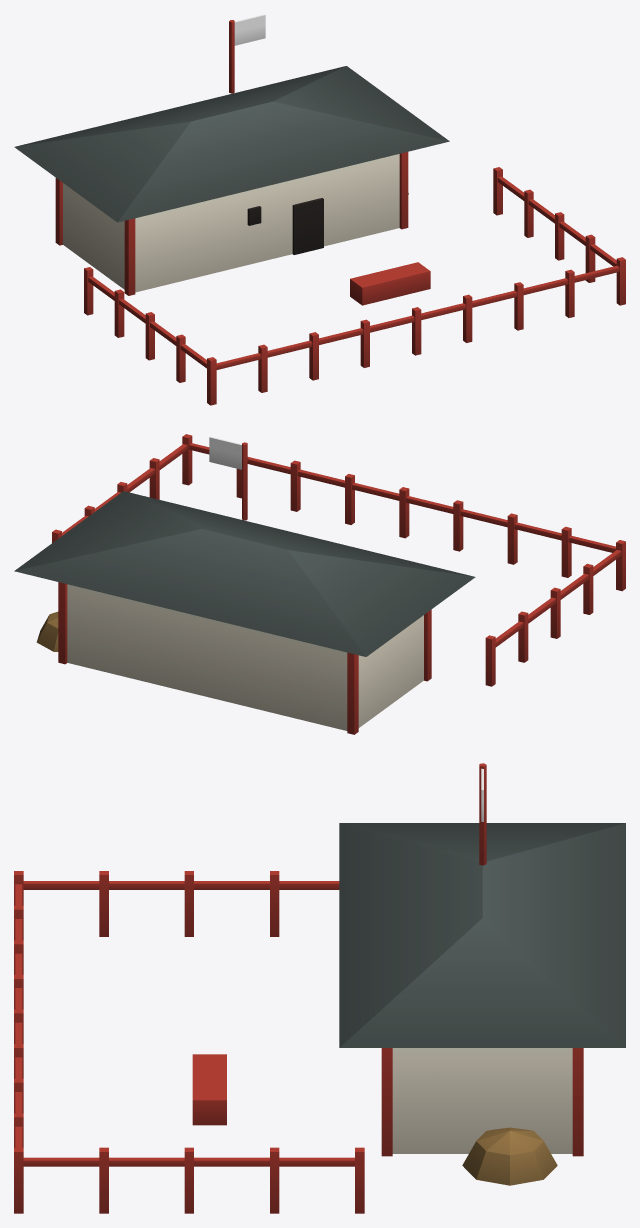
File: STABLE_CHINESE.glb
3 renders of one model, top to bottom at view 1: azimuth 30°, elevation 25°; view 2: azimuth 150°, elevation 25°; view 3: azimuth 270°, elevation 25°, orthographic. The views are drawn at different scales.
Parts seen in each view (by area): view 1: Body, Flag; view 2: Body, Flag; view 3: Body.
Boxes of the visible parts, bbox=[...] form: Body: bbox=[14, 20, 625, 405]; Flag: bbox=[234, 14, 265, 45]; Body: bbox=[14, 434, 625, 734]; Flag: bbox=[209, 436, 241, 469]; Body: bbox=[14, 763, 625, 1213].
Bounding box in the file's own units: 4.87 × 2.4 × 4.49.
Materials: 1 (1 with a texture image).
